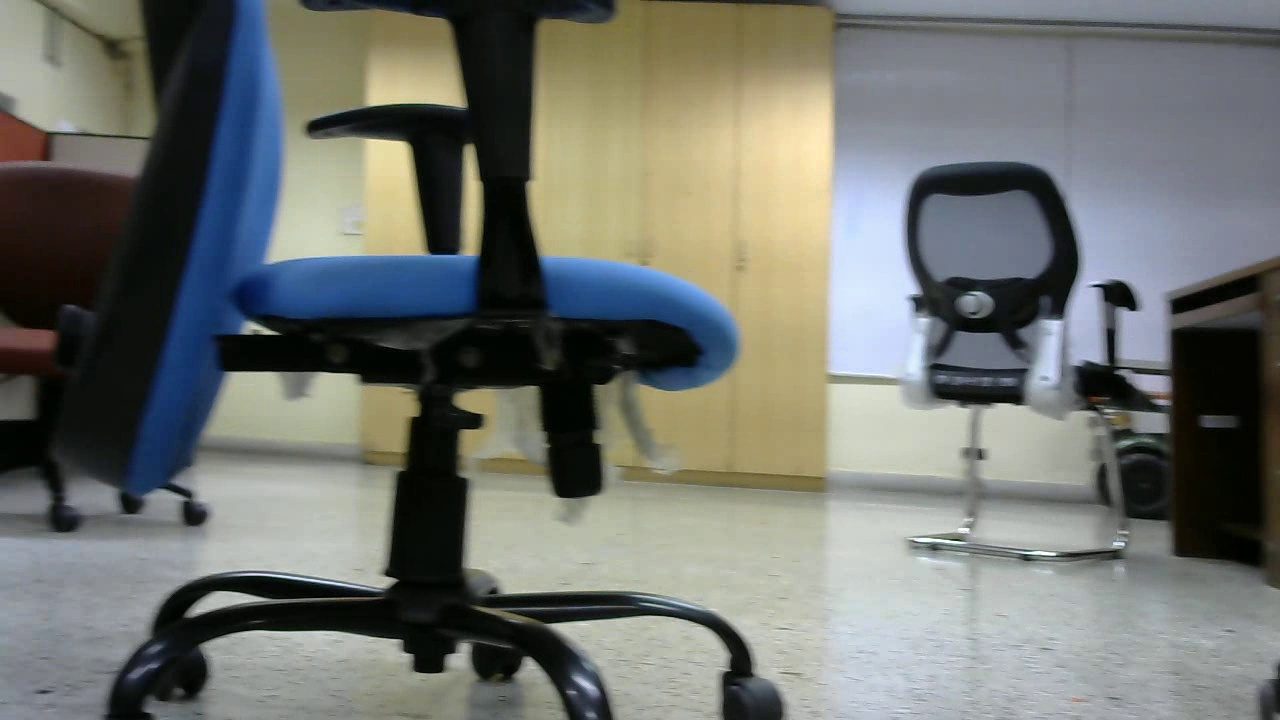chair: (886, 158, 1134, 560)
